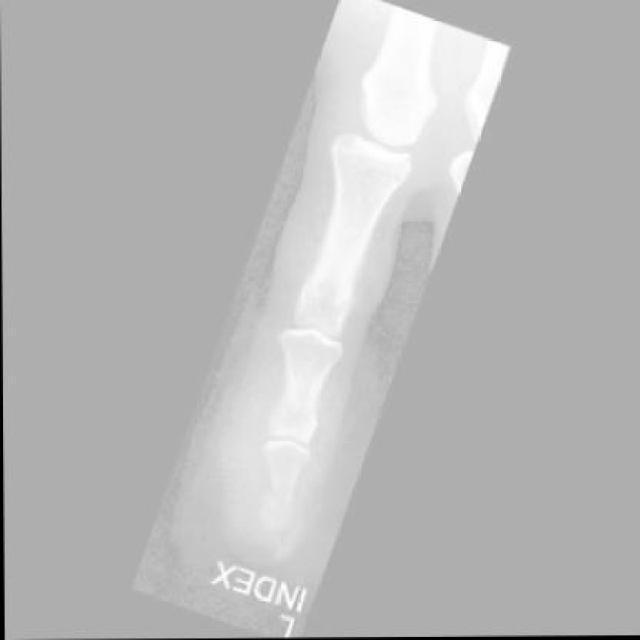Fracture: (257, 468, 307, 519)
